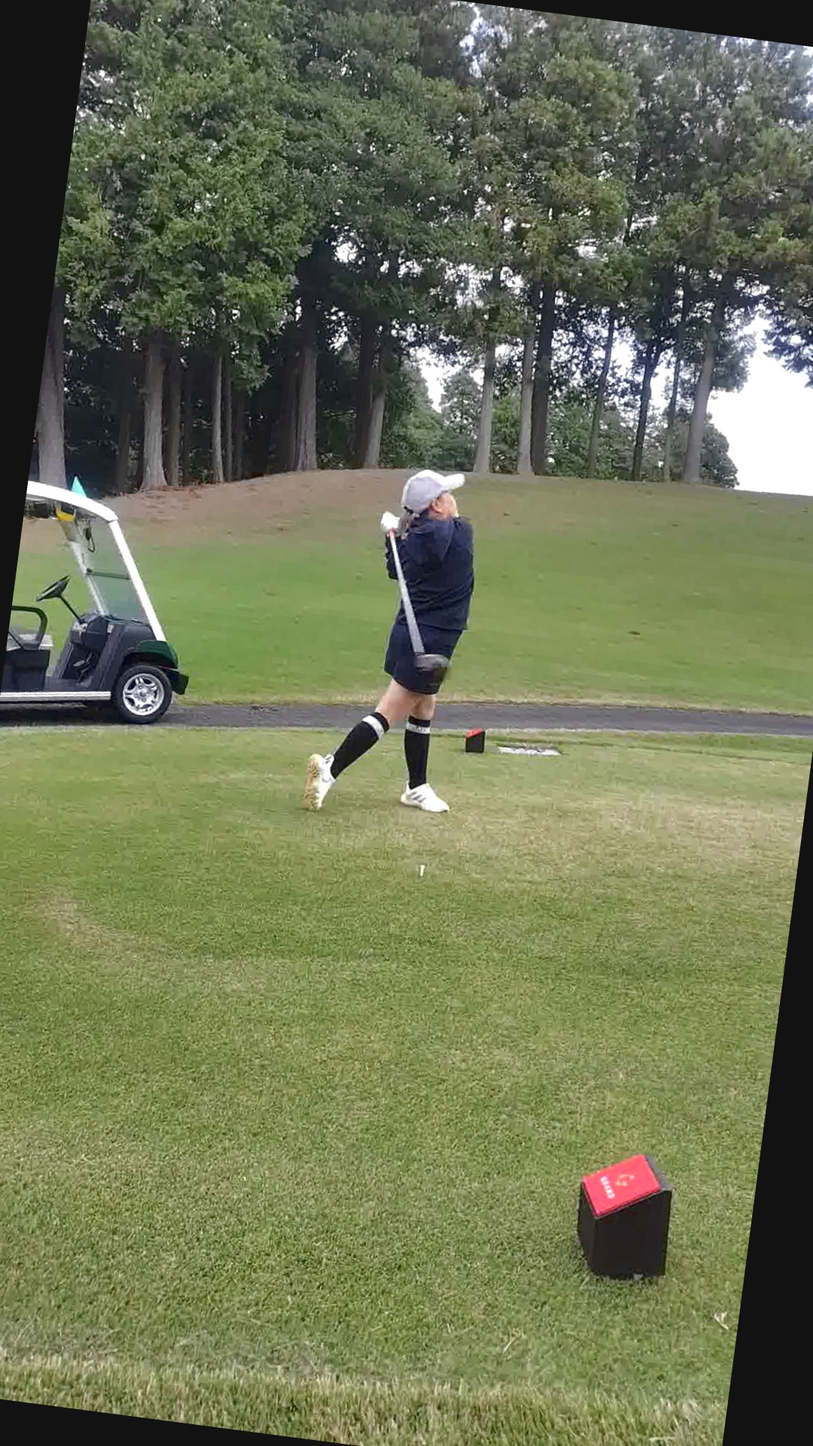clubhead: (349, 616, 504, 729)
